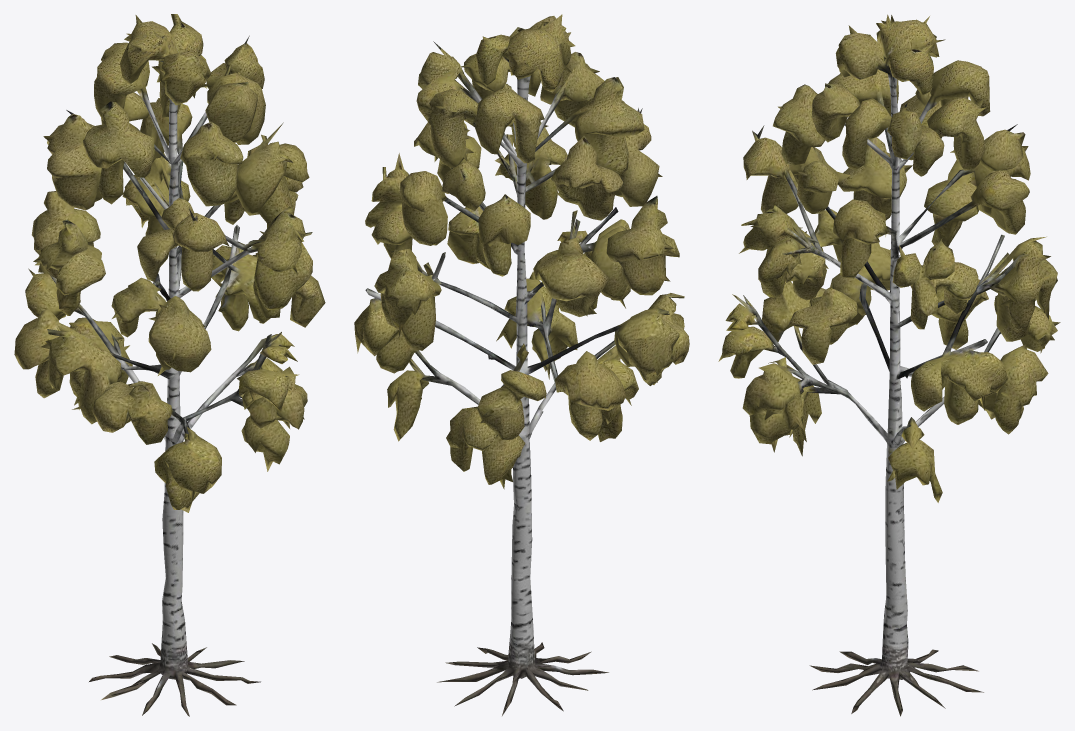
File: abedul.glb
3 views of the same model, side by side, from view 1: azimuth 30°, elevation 25°; view 2: azimuth 150°, elevation 25°; view 3: azimuth 270°, elevation 25° (orthographic).
Visible parts, largest first — view 1: tripo_node_eddd6af3-1b1e-4c4c-9f9c-69c3c681afca; view 2: tripo_node_eddd6af3-1b1e-4c4c-9f9c-69c3c681afca; view 3: tripo_node_eddd6af3-1b1e-4c4c-9f9c-69c3c681afca.
Part boxes in pixels (x1=…): tripo_node_eddd6af3-1b1e-4c4c-9f9c-69c3c681afca: x1=14, y1=14, x2=325, y2=716; tripo_node_eddd6af3-1b1e-4c4c-9f9c-69c3c681afca: x1=354, y1=14, x2=689, y2=715; tripo_node_eddd6af3-1b1e-4c4c-9f9c-69c3c681afca: x1=718, y1=14, x2=1060, y2=716.
Size of the model in its own units: 0.4428 by 1 by 0.4721.
Materials: 1 (1 with a texture image).
